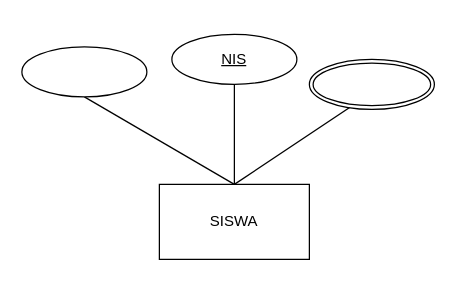
Some shapes in this 456 by 281 pixel diagram are drawn without their labels. The box of each missing label's shape, as (x1, y1, x2, y2) in pixels:
Hobi: (308, 58, 434, 109)
Nama: (21, 46, 147, 97)
